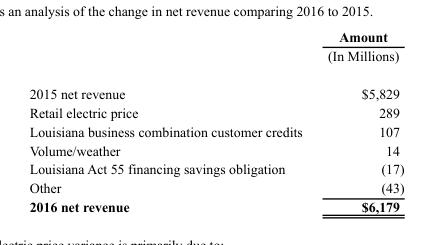table: (28, 28, 403, 214)
table column: (28, 28, 314, 214), (314, 28, 403, 214)
table column header: (28, 28, 403, 74)
table row: (28, 28, 403, 74), (28, 74, 403, 102), (28, 102, 403, 121), (28, 121, 403, 140), (28, 140, 403, 159), (28, 159, 403, 178), (28, 178, 403, 197), (28, 197, 403, 214)
